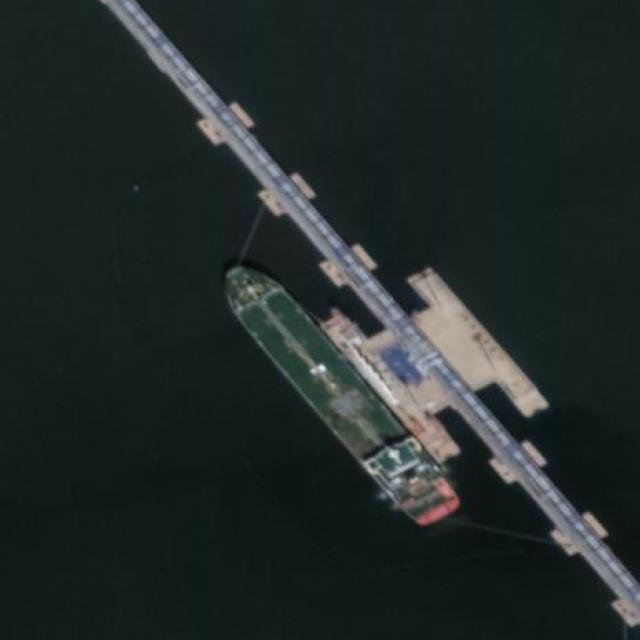Oil Tanker: (209, 249, 464, 537)
